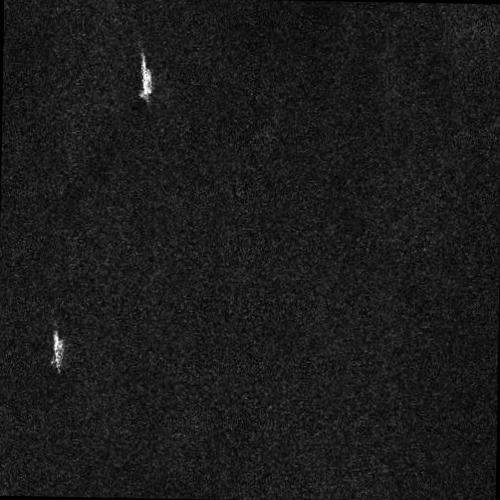ship: (140, 53, 152, 102), (53, 330, 64, 373)
